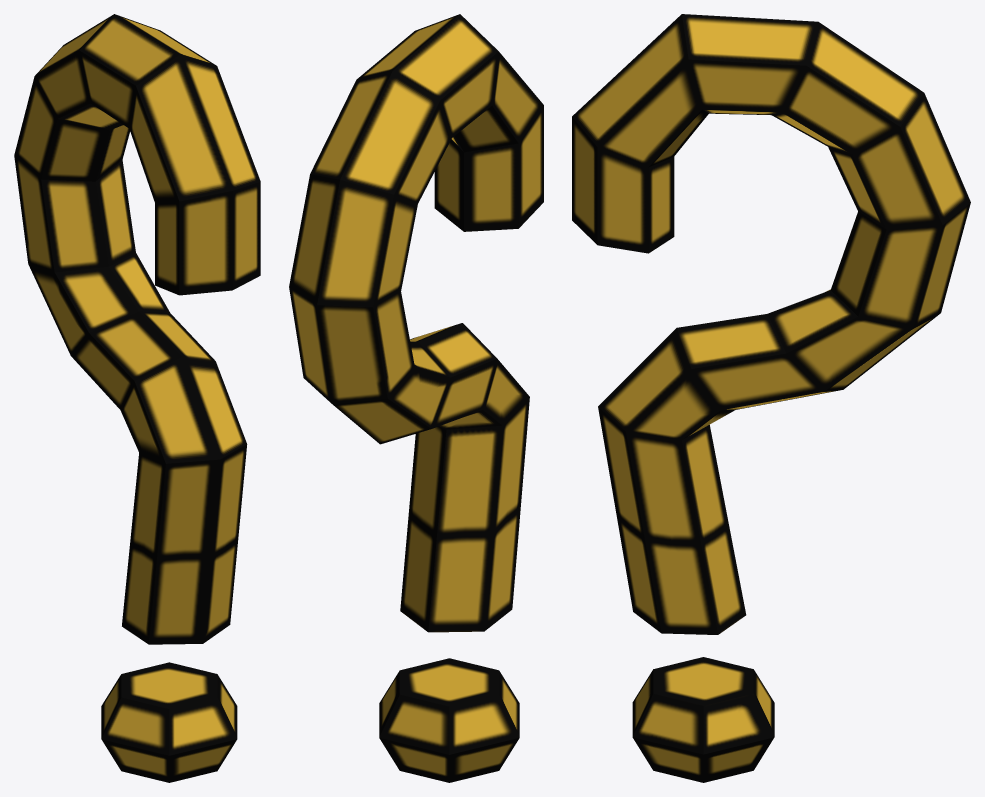
The model's file is interrogation.fbx.
3 views of the same model, side by side, from view 1: azimuth 30°, elevation 25°; view 2: azimuth 150°, elevation 25°; view 3: azimuth 270°, elevation 25° (orthographic). The views are drawn at different scales.
Parts seen in each view (by area): view 1: body, point; view 2: body, point; view 3: body, point.
Part boxes in pixels (left/top/right/bottom): body: left=14, top=14, right=260, bottom=644; point: left=101, top=662, right=237, bottom=782; body: left=289, top=14, right=543, bottom=632; point: left=379, top=658, right=519, bottom=782; body: left=572, top=14, right=970, bottom=634; point: left=632, top=657, right=774, bottom=782.
Bounding box in the file's own units: 2.83 × 14.19 × 6.89.
